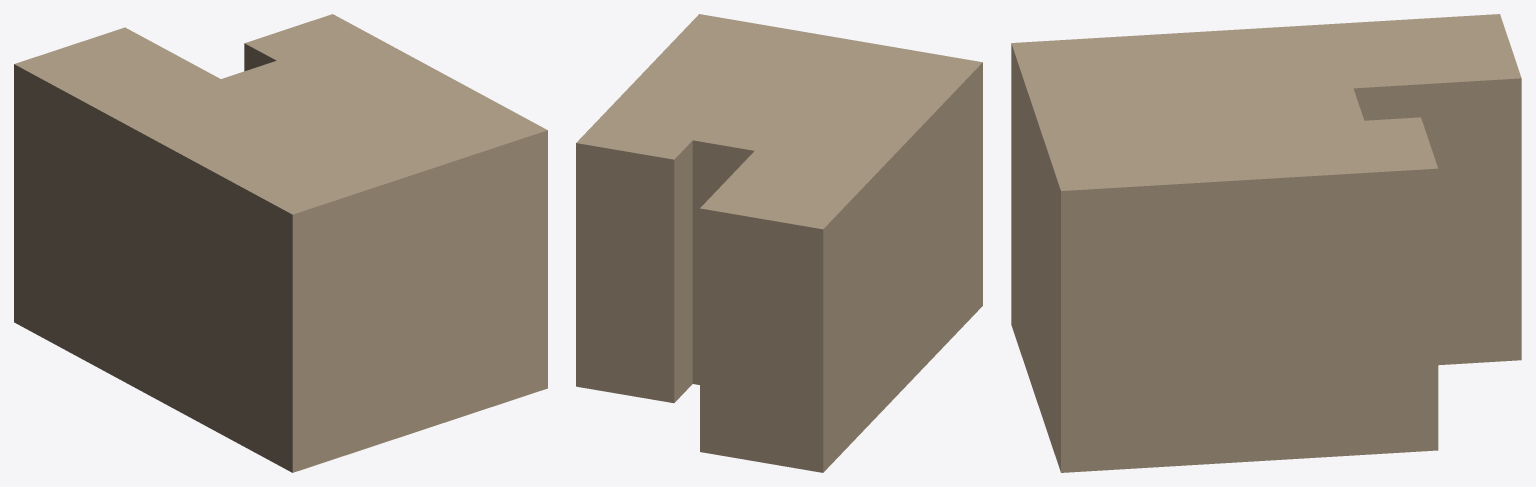
The model's file is bld_109034873.dae.
3 views of the same model, side by side, from view 1: azimuth 30°, elevation 25°; view 2: azimuth 150°, elevation 25°; view 3: azimuth 270°, elevation 25° (orthographic). The views are drawn at different scales.
Parts seen in each view (by area): view 1: bld_109034873; view 2: bld_109034873; view 3: bld_109034873.
Part boxes in pixels (<box>): bld_109034873: <box>14,14,547,472</box>; bld_109034873: <box>576,14,982,472</box>; bld_109034873: <box>1011,14,1521,472</box>.
Size of the model in its own units: 10.78 by 13.12 by 8.
